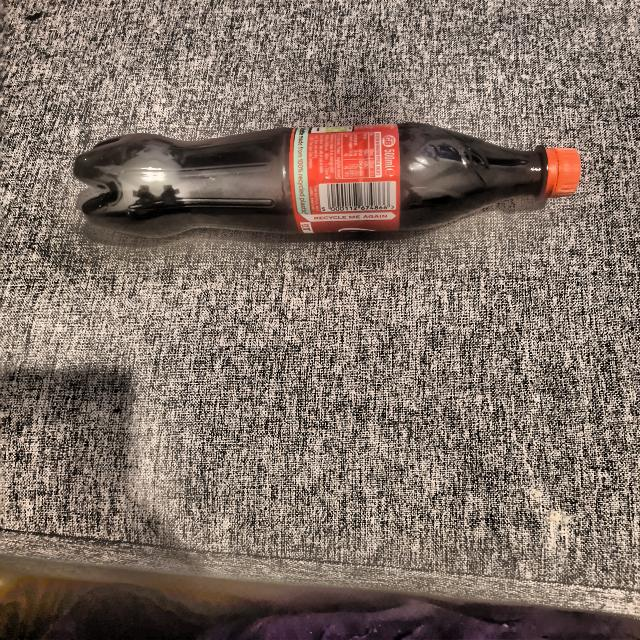coke-bottle: (74, 124, 582, 238)
